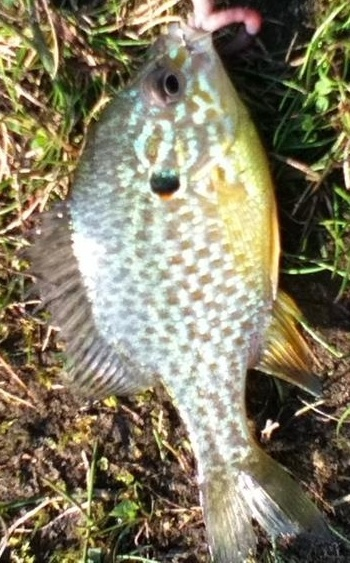Lepomis gibbosus: (20, 20, 330, 563)
